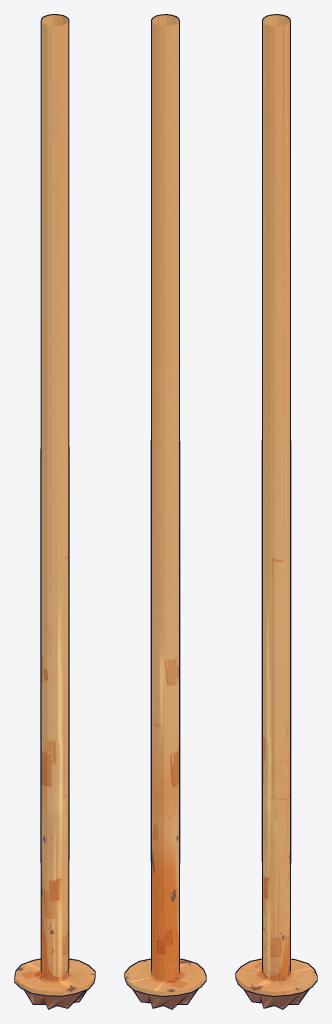
File: meule.glb
3 renders of one model, left to right at view 1: azimuth 30°, elevation 25°; view 2: azimuth 150°, elevation 25°; view 3: azimuth 330°, elevation 25°, orthographic.
Visible parts, largest first — view 1: meule, meule border; view 2: meule, meule border; view 3: meule, meule border.
Part boxes in pixels (bbox=[...]): meule: bbox=[15, 15, 94, 1008]; meule border: bbox=[14, 14, 95, 1009]; meule: bbox=[125, 15, 205, 1008]; meule border: bbox=[124, 14, 206, 1009]; meule: bbox=[236, 15, 316, 1008]; meule border: bbox=[235, 14, 317, 1009].
Bounding box in the file's own units: 0.526 × 7.03 × 0.526.
2 materials, 1 textured.
